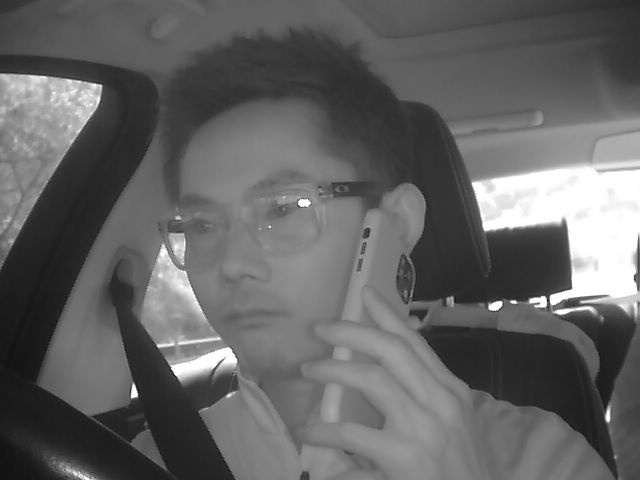hand: (307, 293, 456, 477)
